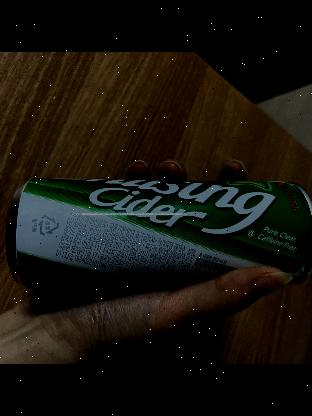Can: (6, 176, 312, 289)
